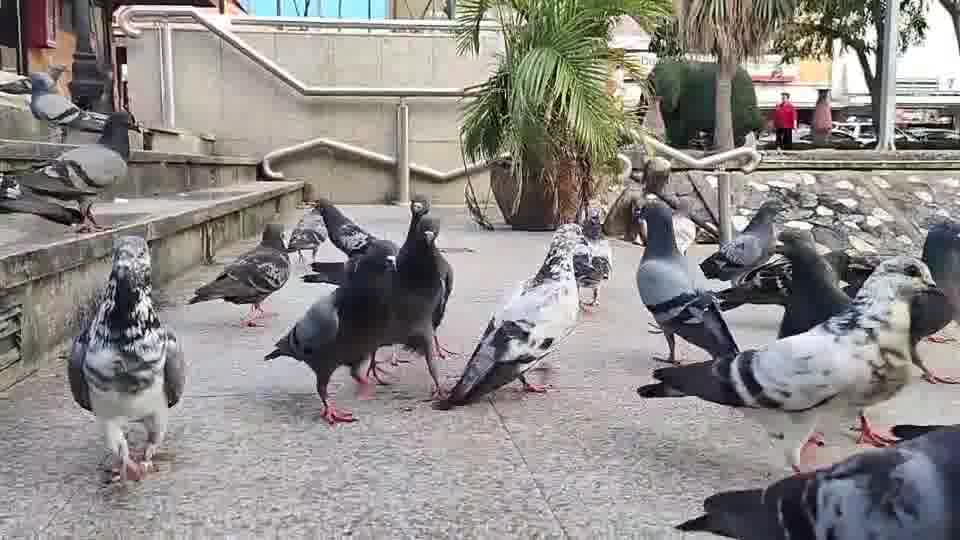Pigeon: (635, 252, 951, 463), (263, 196, 454, 424), (673, 422, 959, 539), (66, 233, 185, 484), (442, 221, 594, 408), (635, 200, 740, 363), (17, 109, 130, 233), (184, 222, 294, 327), (697, 198, 786, 283), (571, 207, 612, 311), (284, 203, 328, 263)
